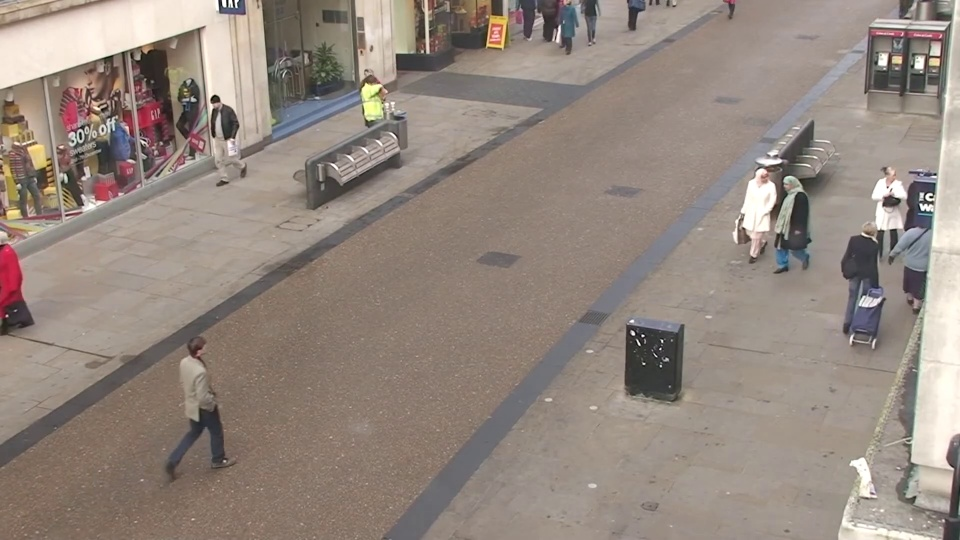pedestrian: (190, 318, 248, 464), (844, 211, 893, 333), (857, 163, 903, 273), (763, 172, 804, 284), (737, 164, 776, 273), (194, 93, 229, 180), (358, 72, 388, 154), (351, 66, 381, 146)
